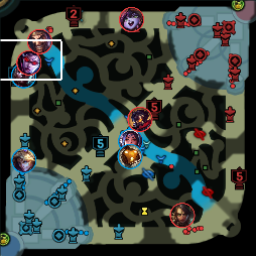bard: (116, 145, 141, 168)
draven: (28, 29, 50, 52)
ekko: (11, 63, 36, 88)
ezreal: (12, 148, 35, 172)
irelia: (120, 130, 142, 152)
lulu: (119, 7, 144, 33)
nidalee: (170, 203, 195, 226)
vayne: (17, 50, 40, 75)
viktor: (128, 106, 150, 130)
